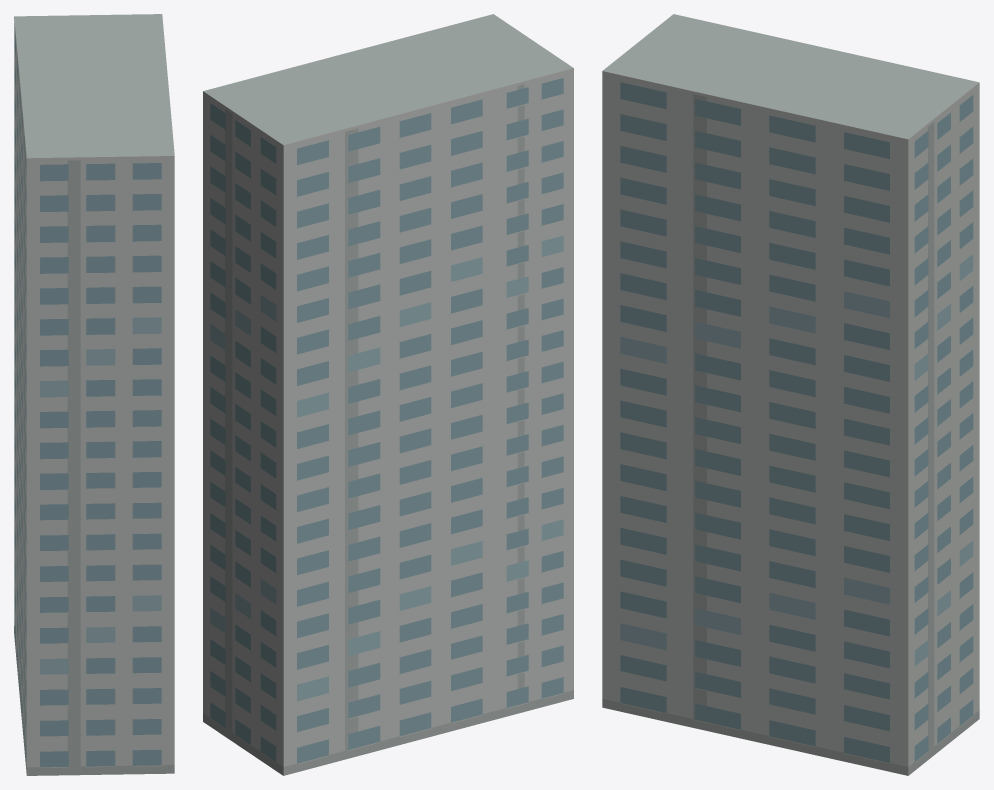
Rendered from residential-83ee402f-03dd-47ca-9e03-076e073326de.glb.
The picture shows the model from 3 angles, left to right: view 1: azimuth 30°, elevation 25°; view 2: azimuth 150°, elevation 25°; view 3: azimuth 270°, elevation 25°; orthographic projection. The views are drawn at different scales.
Visible parts, largest first — view 1: residential-83ee402f-03dd-47ca-9e03-076e073326de.tmp; view 2: residential-83ee402f-03dd-47ca-9e03-076e073326de.tmp; view 3: residential-83ee402f-03dd-47ca-9e03-076e073326de.tmp.
Part boxes in pixels (left/top/right/bottom): residential-83ee402f-03dd-47ca-9e03-076e073326de.tmp: left=14, top=14, right=174, bottom=775; residential-83ee402f-03dd-47ca-9e03-076e073326de.tmp: left=203, top=14, right=573, bottom=775; residential-83ee402f-03dd-47ca-9e03-076e073326de.tmp: left=602, top=14, right=979, bottom=775.
Size of the model in its own units: 22.82 by 54 by 29.03.
